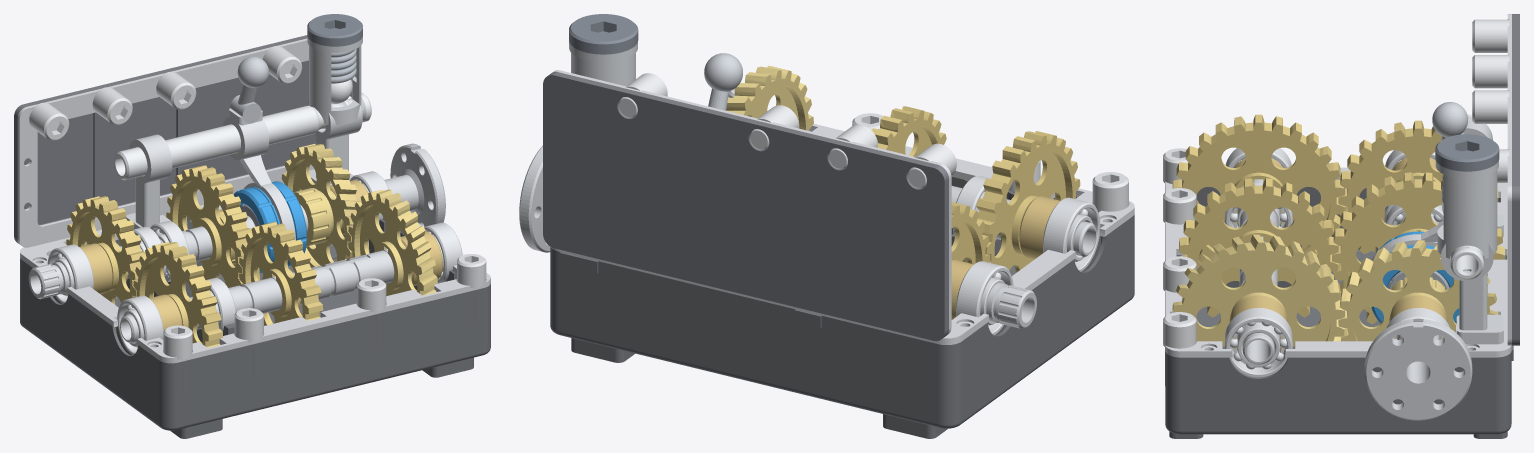
The model's file is cad_f3_05_gearbox.glb.
3 views of the same model, side by side, from view 1: azimuth 30°, elevation 25°; view 2: azimuth 150°, elevation 25°; view 3: azimuth 270°, elevation 25° (orthographic). The views are drawn at different scales.
Visible parts, largest first — view 1: housing_lower, rear_cover, rear_cover_flange, mounting_flange, gear_high_output, gear_low_output, gear_high_counter, shift_rail, gear_low_counter, gear_counter_driven, countershaft, gear_input_drive (+26 smaller); view 2: rear_cover, housing_lower, gear_counter_driven, mounting_flange, gear_high_counter, gear_low_counter, detent_cap, bearing_counter_l, bearing_input_l, output_shaft, rail_bracket_right_tower, input_shaft (+12 smaller); view 3: housing_lower, gear_high_counter, gear_counter_driven, output_shaft, gear_low_counter, rail_bracket_right_tower, gear_high_output, gear_low_output, mounting_flange, gear_input_drive, bearing_counter_r, rear_cover (+22 smaller).
Boxes of the visible parts, x1,y1,x2,y2 form: housing_lower: [20, 219, 490, 438]; rear_cover: [14, 35, 315, 243]; rear_cover_flange: [17, 38, 314, 247]; mounting_flange: [20, 173, 490, 363]; gear_high_output: [281, 144, 359, 267]; gear_low_output: [166, 165, 251, 296]; gear_high_counter: [348, 189, 437, 295]; shift_rail: [114, 92, 371, 180]; gear_low_counter: [239, 222, 323, 325]; gear_counter_driven: [133, 242, 223, 347]; countershaft: [120, 249, 394, 343]; gear_input_drive: [66, 196, 145, 332]; rear_cover: [543, 72, 948, 341]; housing_lower: [550, 177, 1134, 438]; gear_counter_driven: [976, 131, 1080, 272]; mounting_flange: [551, 124, 1134, 344]; gear_high_counter: [726, 65, 813, 130]; gear_low_counter: [872, 106, 946, 156]; detent_cap: [569, 14, 638, 54]; bearing_counter_l: [1042, 197, 1100, 271]; bearing_input_l: [956, 261, 1013, 335]; output_shaft: [519, 146, 550, 252]; rail_bracket_right_tower: [569, 42, 637, 86]; input_shaft: [986, 283, 1036, 328]; housing_lower: [1165, 184, 1513, 438]; gear_high_counter: [1172, 234, 1344, 346]; gear_counter_driven: [1172, 114, 1344, 257]; output_shaft: [1364, 319, 1472, 420]; gear_low_counter: [1179, 178, 1338, 317]; rail_bracket_right_tower: [1435, 160, 1503, 344]; gear_high_output: [1338, 240, 1498, 341]; gear_low_output: [1332, 172, 1504, 324]; mounting_flange: [1165, 167, 1511, 357]; gear_input_drive: [1338, 120, 1498, 254]; bearing_counter_r: [1225, 308, 1292, 377]; rear_cover: [1512, 14, 1519, 345].
Size of the model in its own units: 0.256 by 0.1582 by 0.1789.
